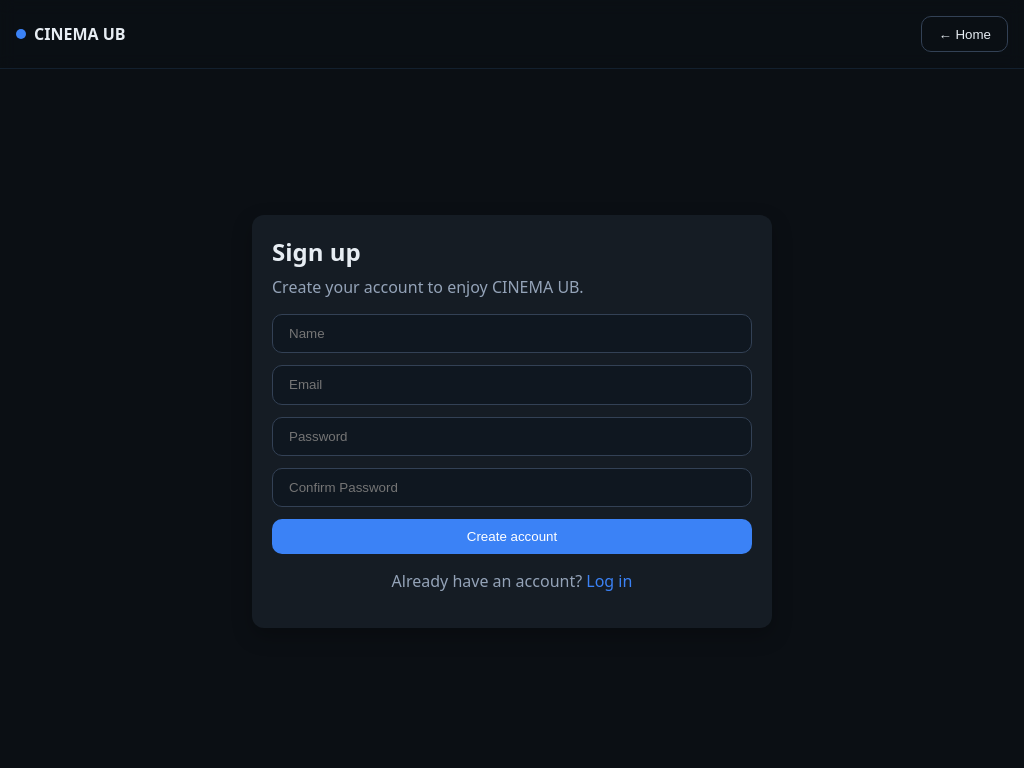
Register - flujo de registro de usuario › muestra errores cuando el backend devuelve error de validación
Note: Rellenamos el formulario COMPLETO
Type "testuser2" into the field with placeholder "Name". click: (512, 334)
box: [272,314,752,353]
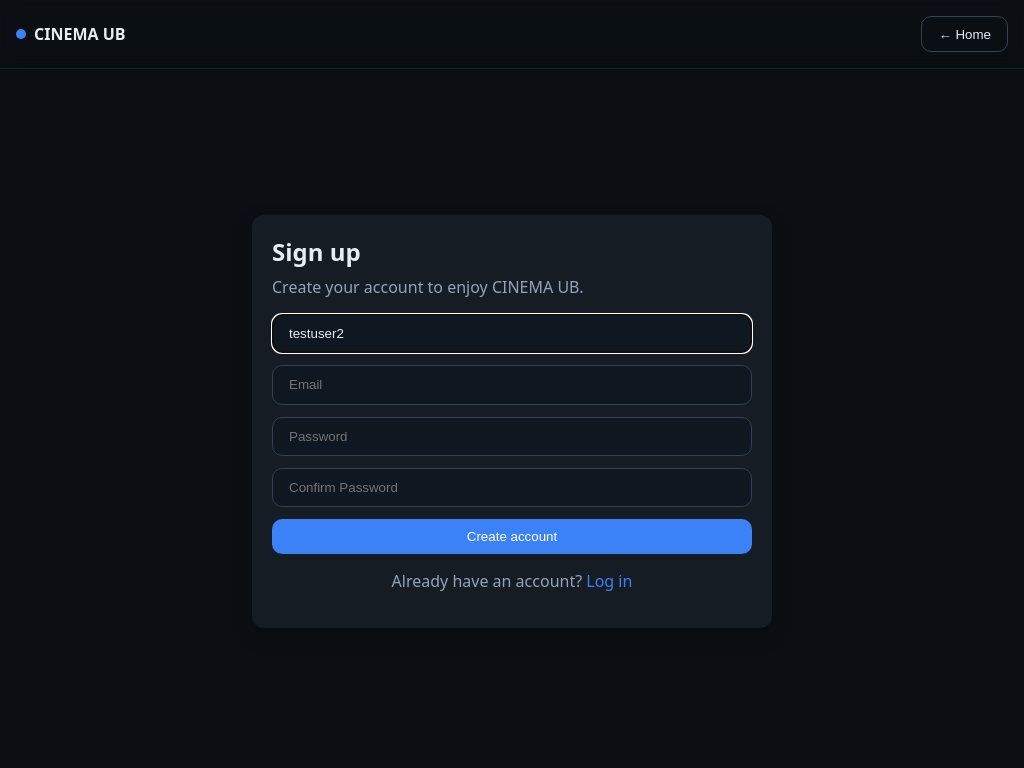
Type "duplicate@example.com" into the field with placeholder "Email". click: (512, 385)
box: [272,365,752,404]
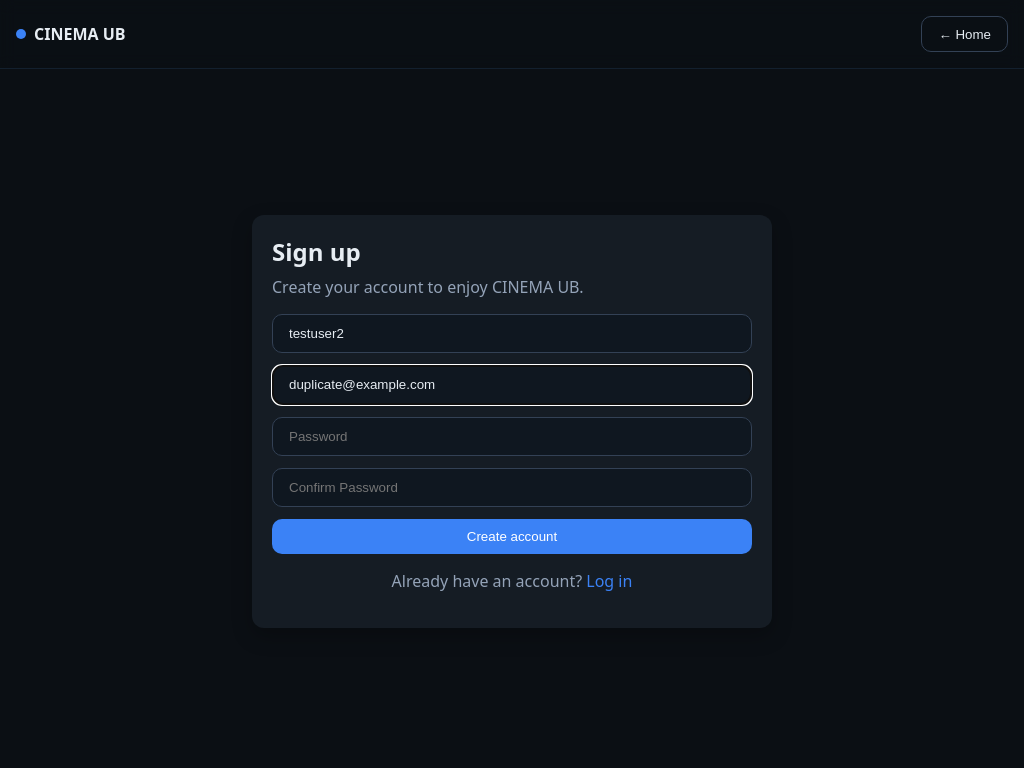
Type "Password123!" into the password field with placeholder "Password". click: (512, 437)
box: [272,417,752,456]
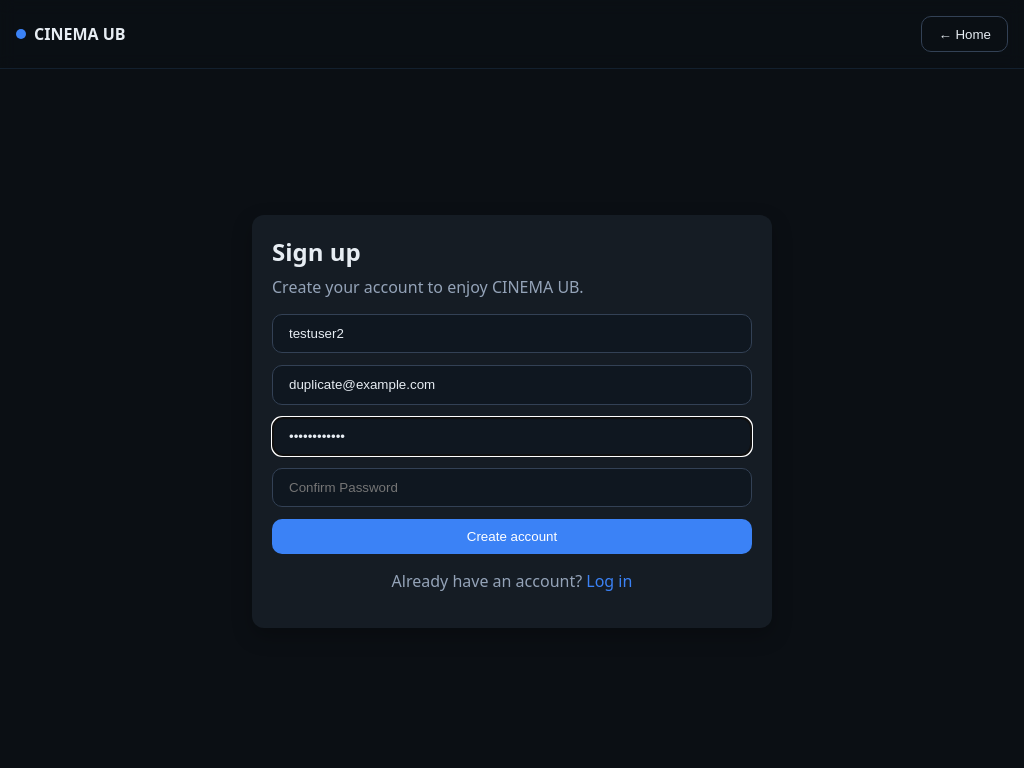
Type "Password123!" into the password field with placeholder "Confirm Password". click: (512, 488)
box: [272,468,752,507]
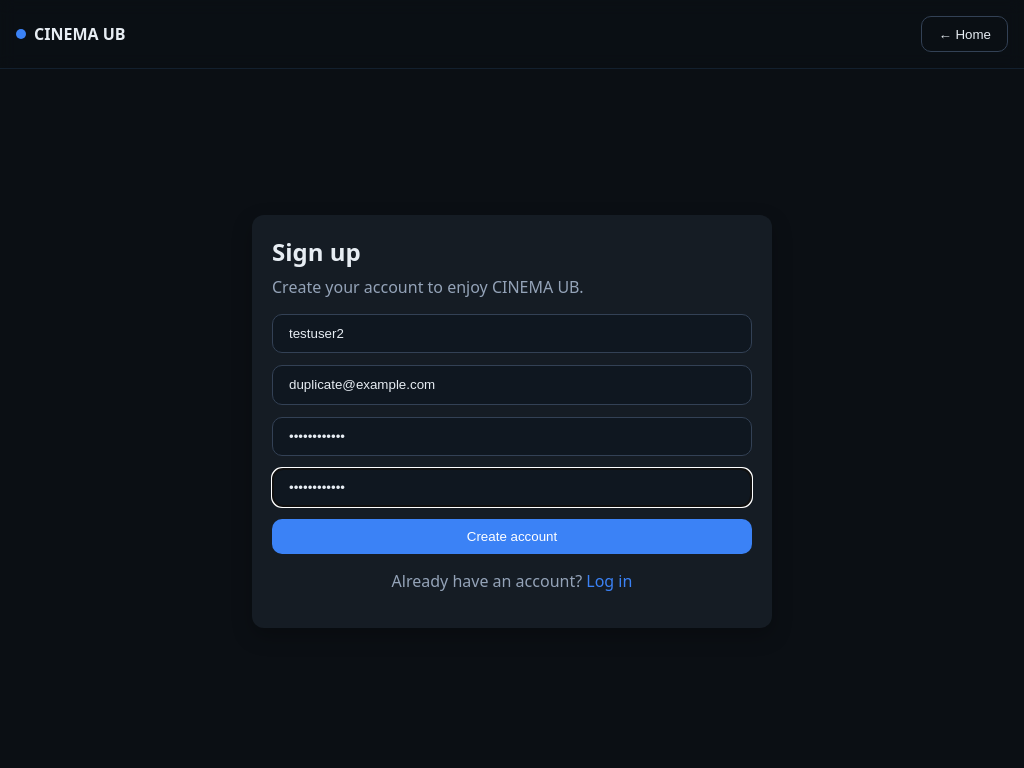
Click the button "Create account". click: (512, 536)
box: [272,519,752,553]
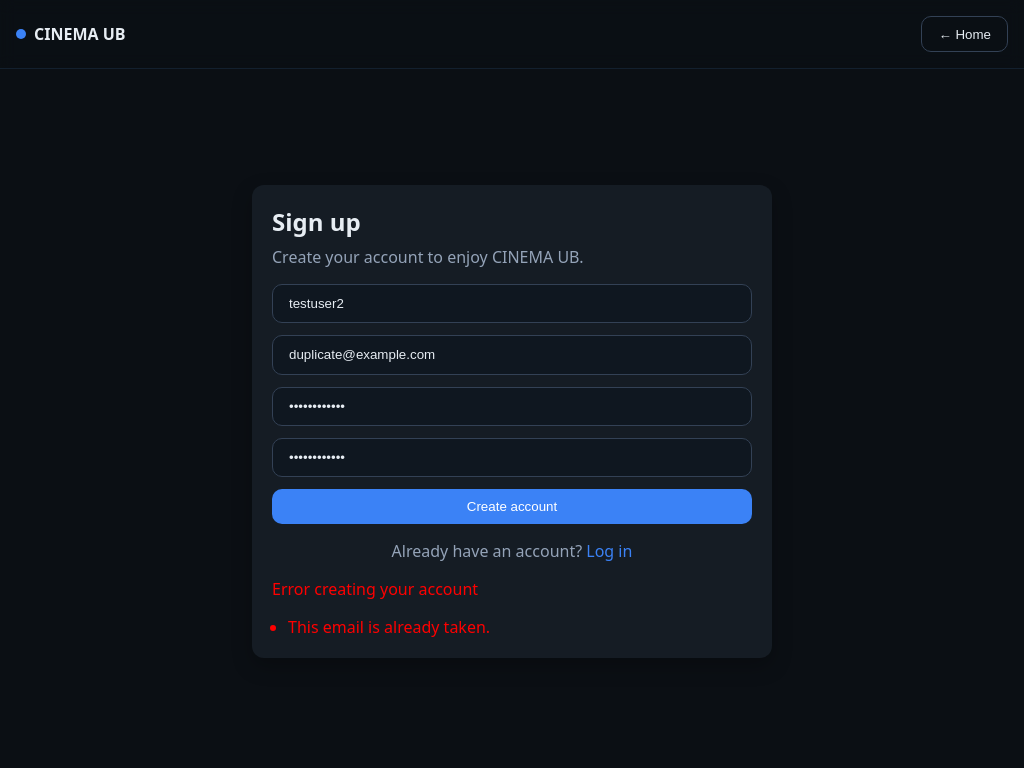
Now the text "Error creating your account" is shown, box [272,578,478,600]
Now the list item "This email is already taken." is shown, box [288,616,490,638]
